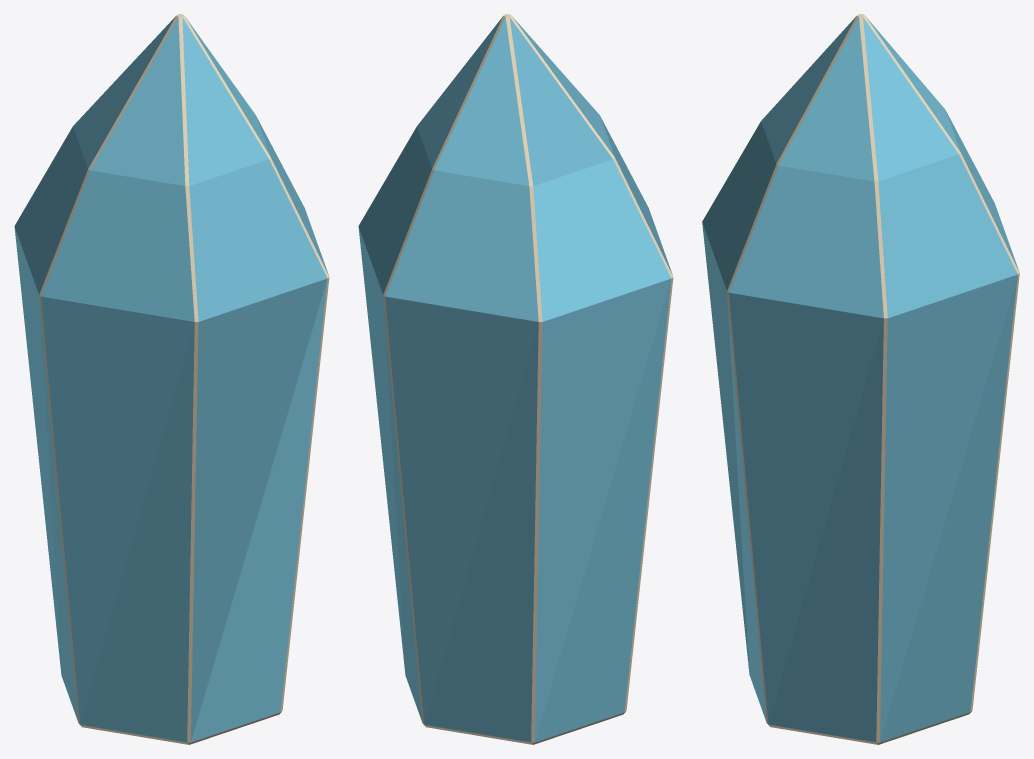
3 renders of one model, left to right at view 1: azimuth 30°, elevation 25°; view 2: azimuth 150°, elevation 25°; view 3: azimuth 270°, elevation 25°, orthographic.
Parts seen in each view (by area): view 1: Crystal_Blue_A_Geometry; view 2: Crystal_Blue_A_Geometry; view 3: Crystal_Blue_A_Geometry.
Boxes of the visible parts, left/top/right/bottom form: Crystal_Blue_A_Geometry: left=14, top=14, right=329, bottom=744; Crystal_Blue_A_Geometry: left=358, top=14, right=673, bottom=744; Crystal_Blue_A_Geometry: left=702, top=14, right=1019, bottom=744.
Bounding box in the file's own units: 0.7111 × 1.6 × 0.6725.
